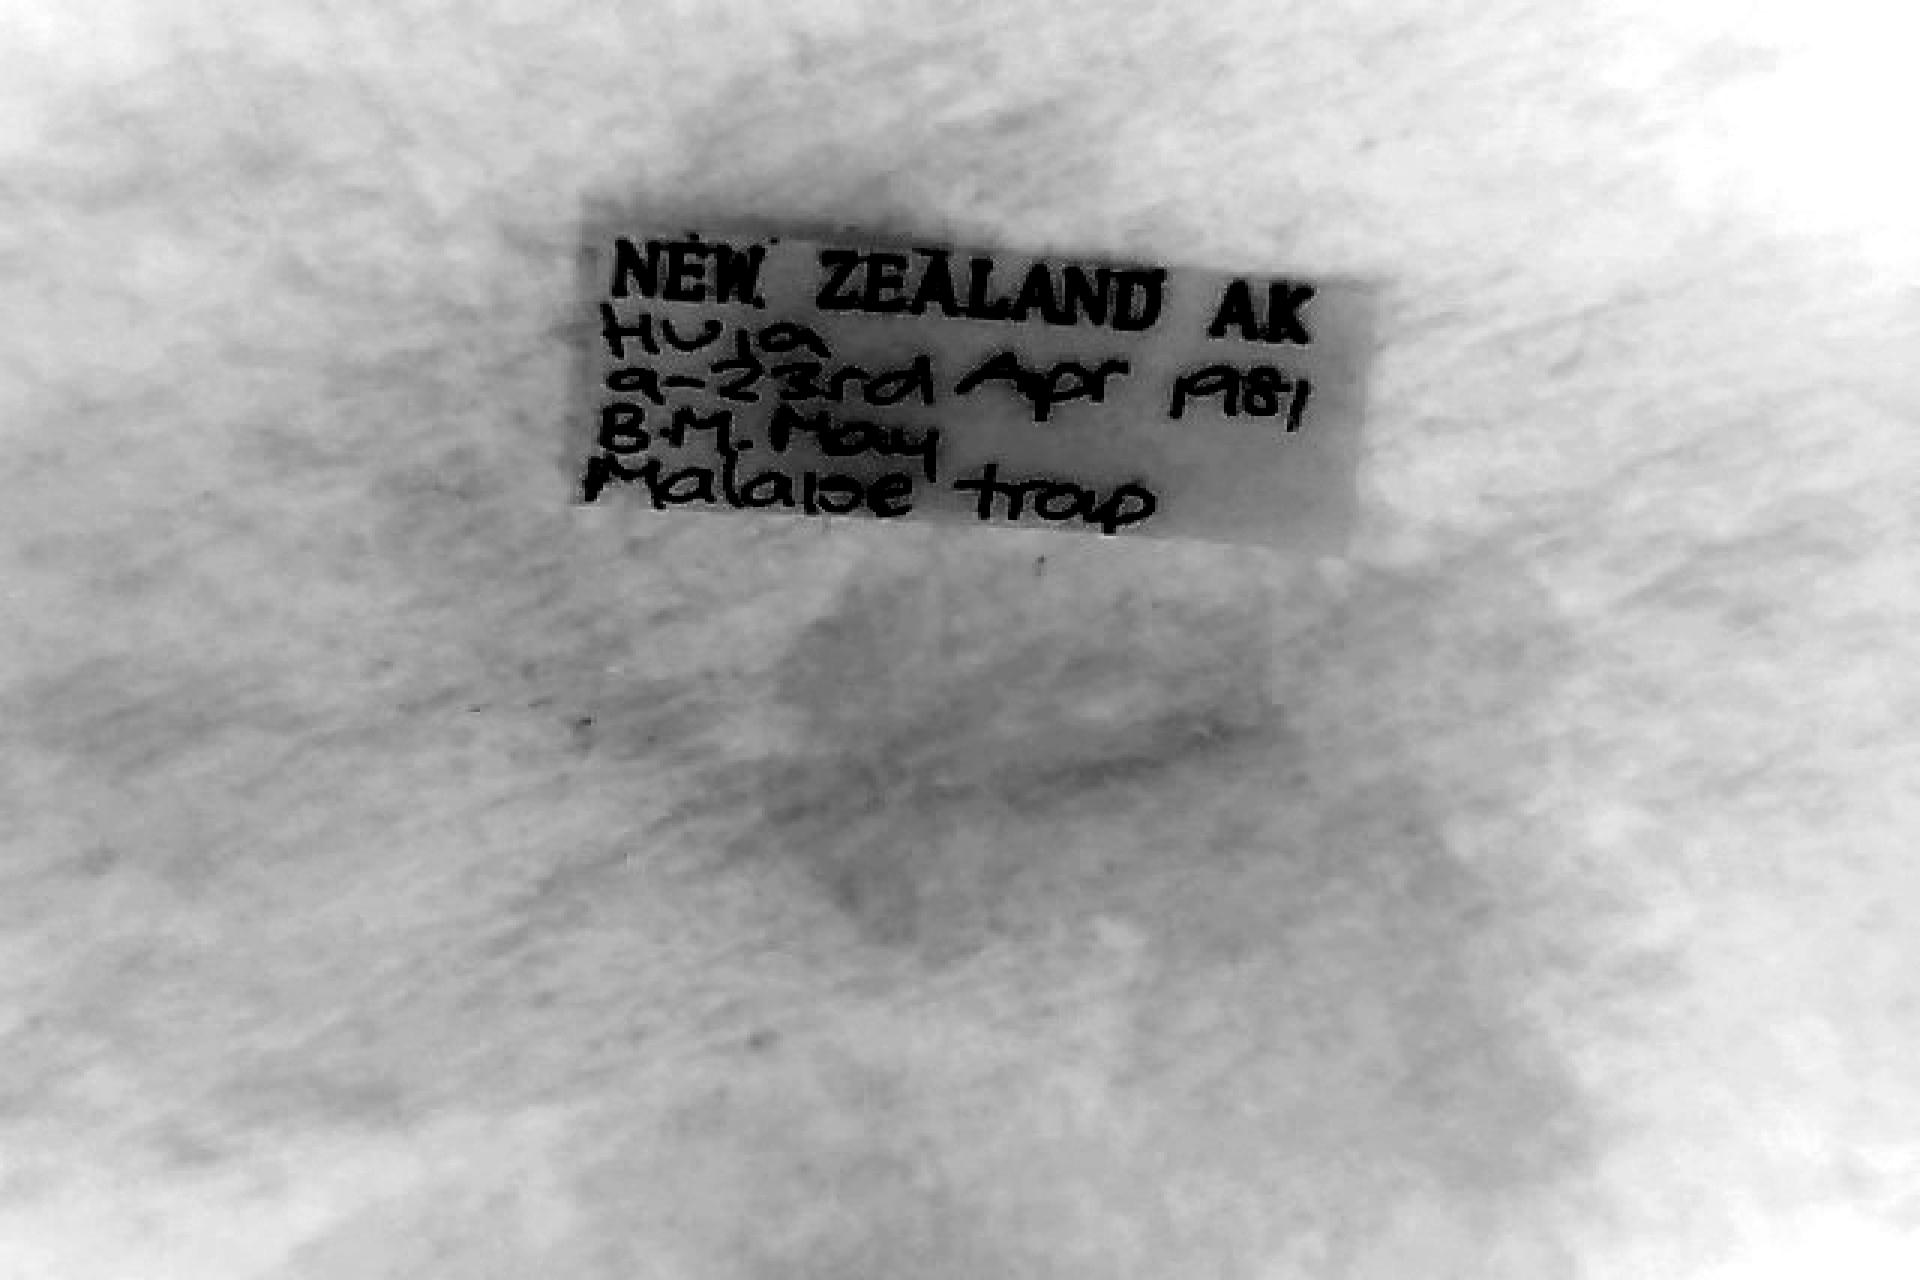mixed_label: (587, 233, 1373, 541)
